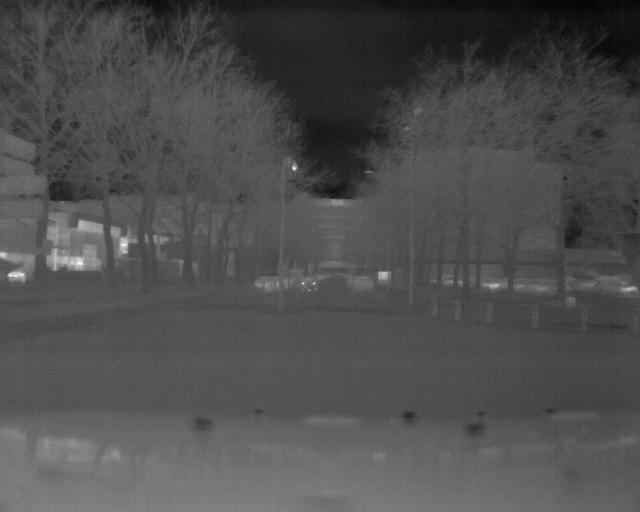car: (6, 261, 35, 282), (298, 273, 321, 294)
